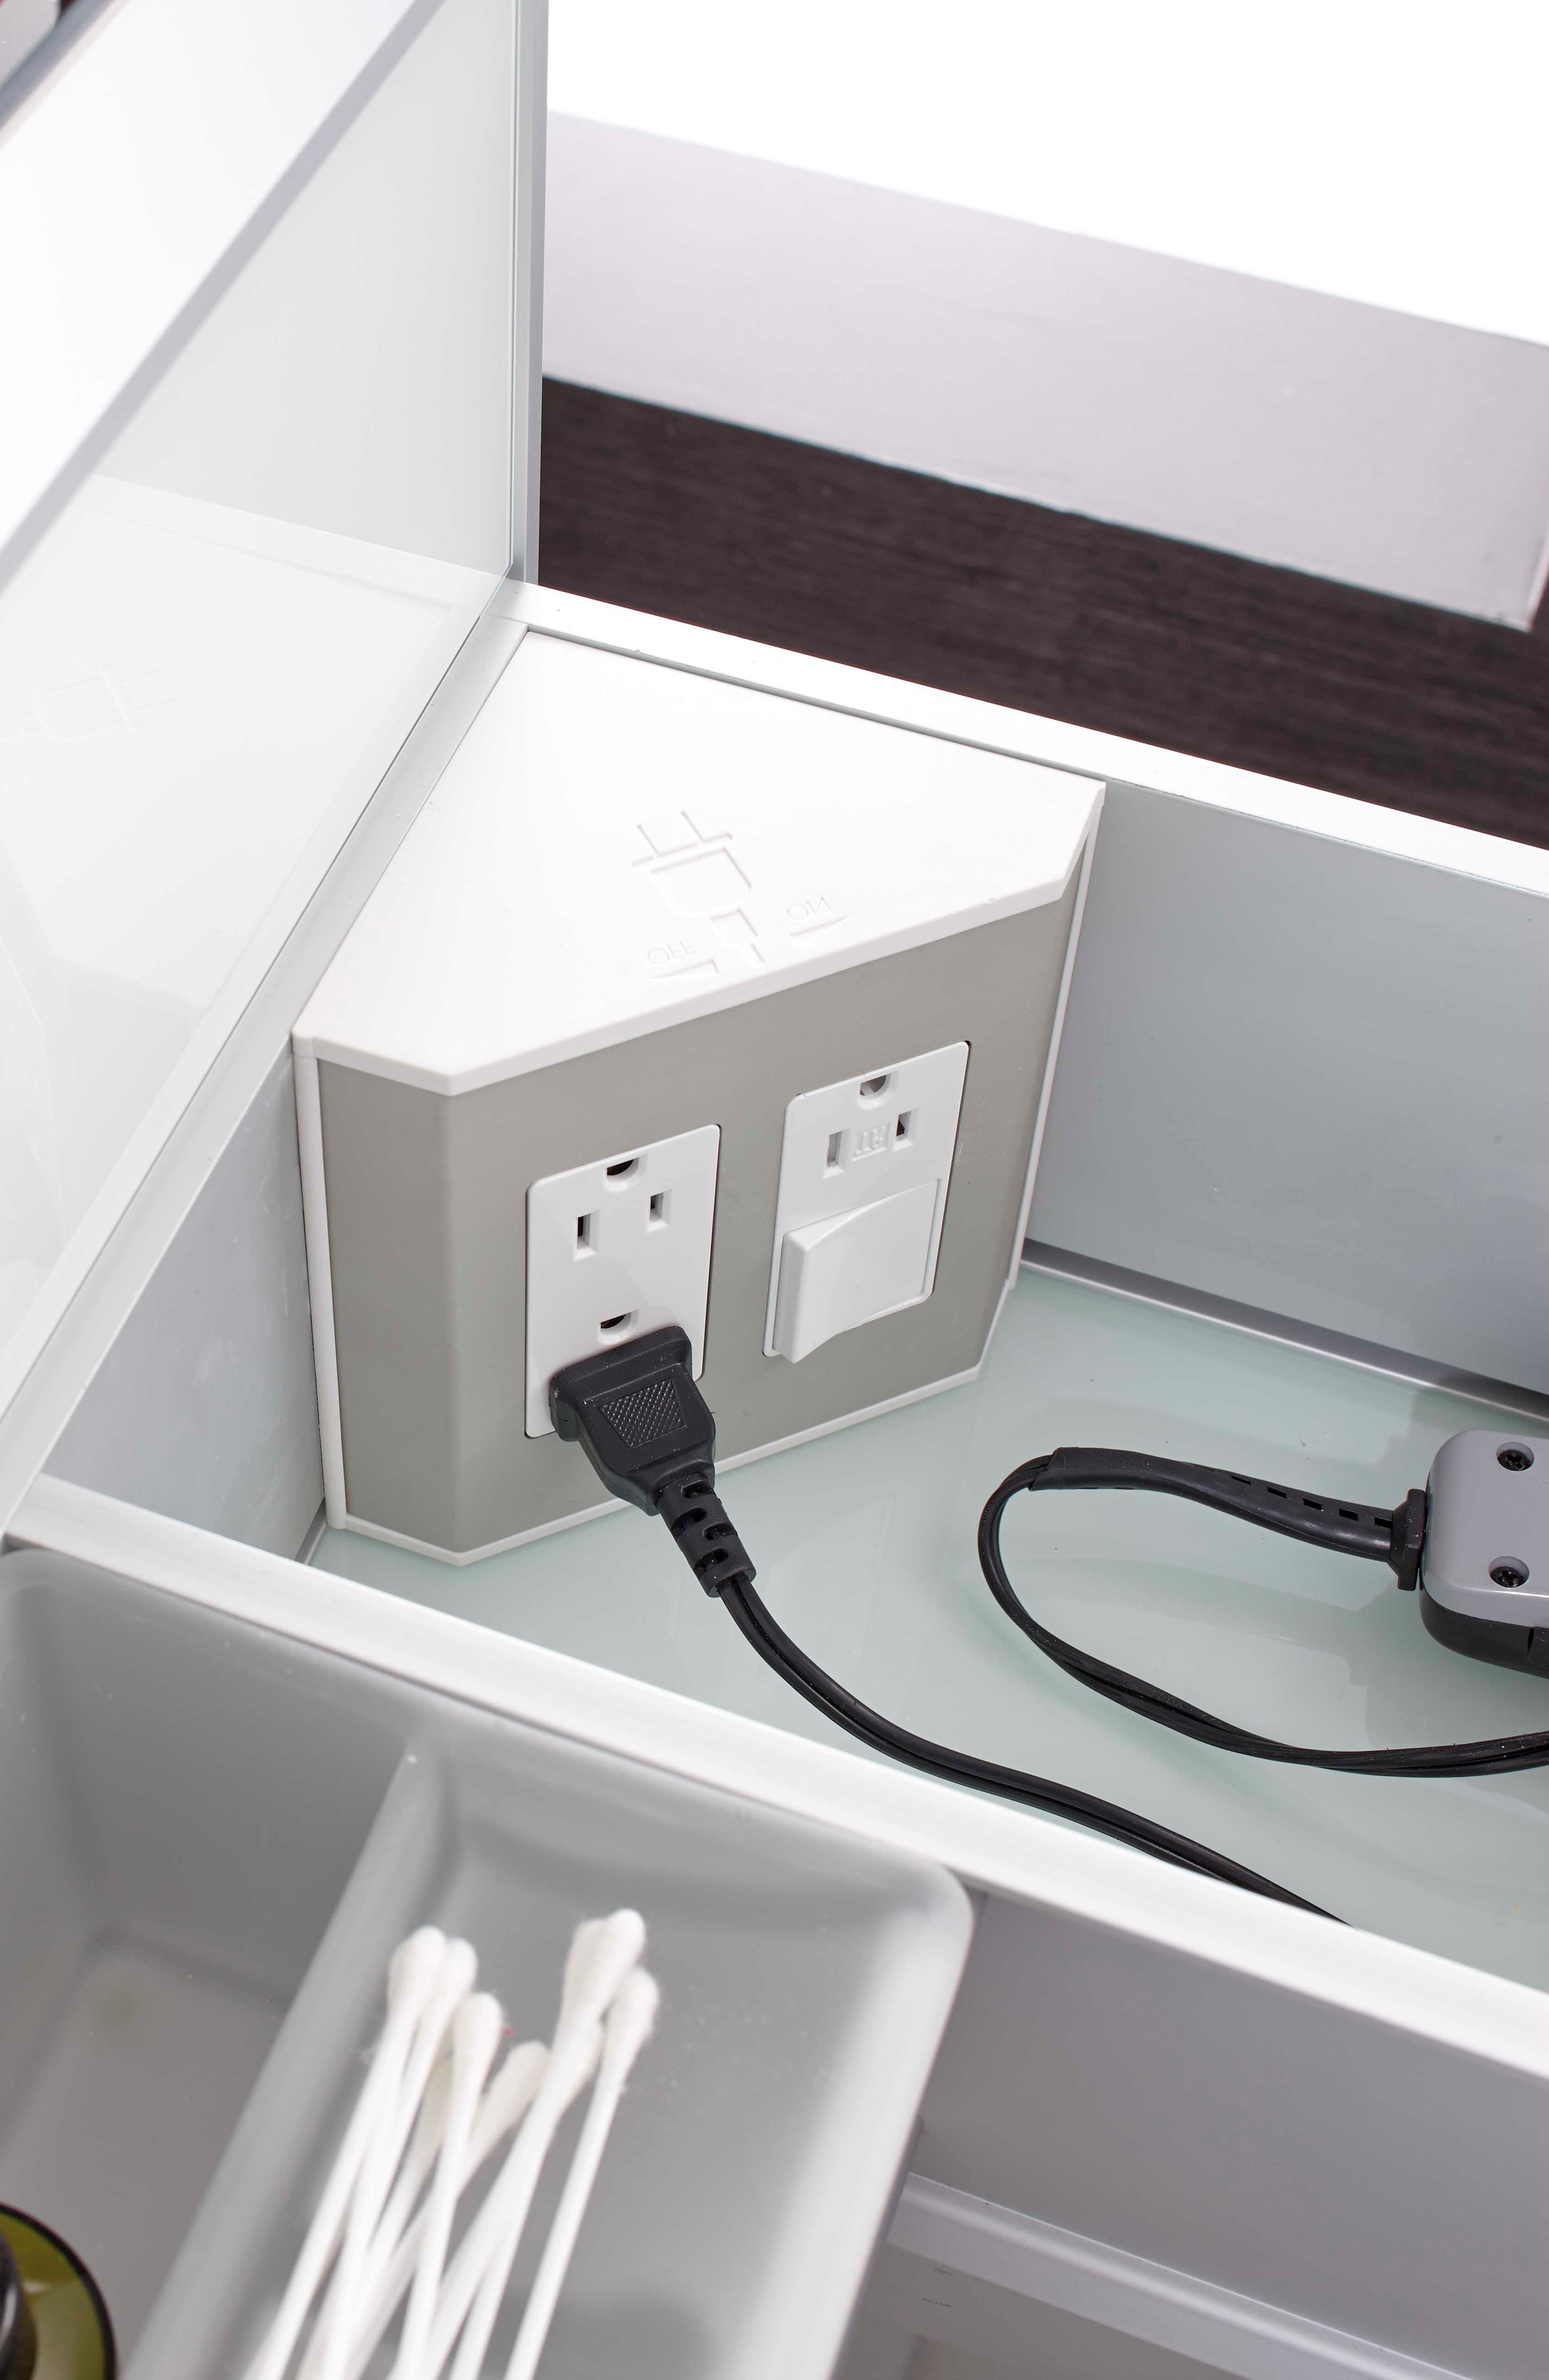outlet: (808, 1062, 938, 1183), (553, 1143, 690, 1258)
